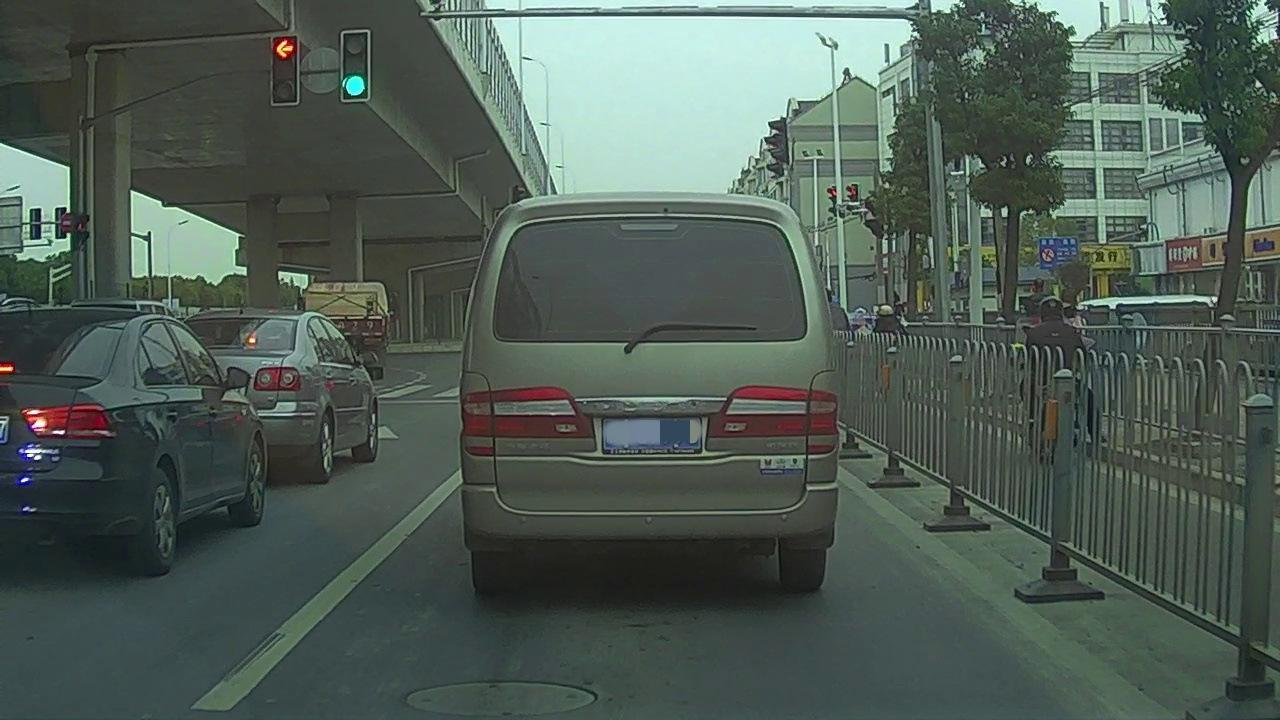traffic_light: (342, 31, 368, 101), (271, 36, 297, 104)
